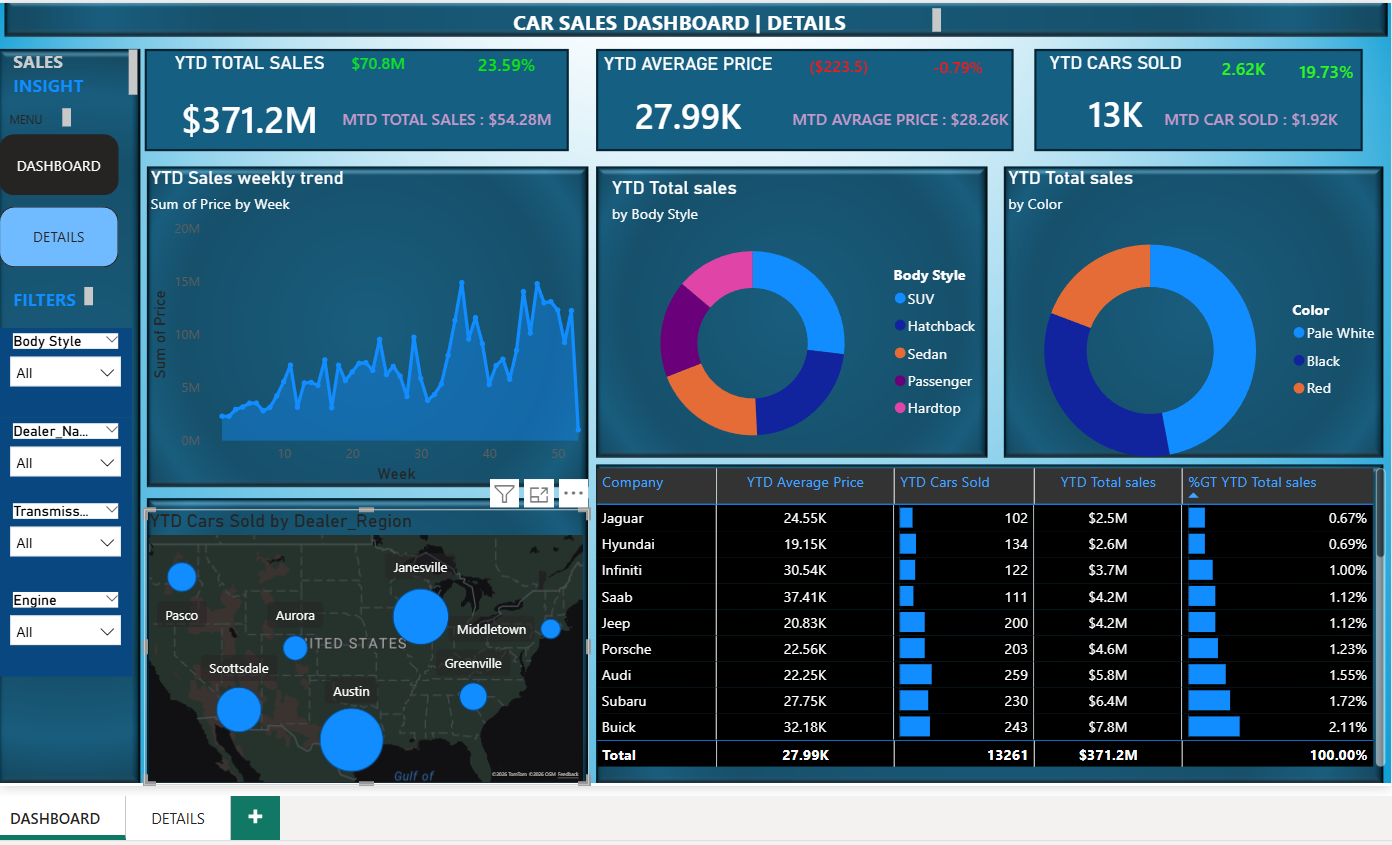

This screenshot's page, from the dashboard's own definition file:
{"tool":"powerbi","page":{"name":"DASHBOARD","canvas":[1280,720],"ordinal":0},"visuals":[{"type":"cardVisual","title":"YTD TOTAL SALES","fields":{"Data":["car_data.YTD Total sales"]},"box":[132.9,44.7,194.1,100],"z":0},{"type":"cardVisual","title":"SALES DIFFRENCE","fields":{"Data":["car_data.Sales Diffrence"]},"box":[284.7,27.1,127.1,52.9],"z":1000},{"type":"cardVisual","title":"SALES DIFFRENCE","fields":{"Data":["car_data.YOY Groth Sales"]},"box":[411.8,27.1,112.9,54.1],"z":2000},{"type":"cardVisual","fields":{"Data":["car_data.MTD KPI"]},"box":[282.4,77.6,258.8,54.1],"z":3000},{"type":"cardVisual","title":"YTD AVERAGE PRICE","fields":{"Data":["car_data.YTD Average Price"]},"box":[543,46.5,182.6,91.9],"z":4000},{"type":"cardVisual","title":"SALES DIFFRENCE","fields":{"Data":["car_data.Avrage Price diffrence"]},"box":[716.5,30.6,112.9,52.9],"z":5000},{"type":"cardVisual","title":"SALES DIFFRENCE","fields":{"Data":["car_data.YOY Avrage price"]},"box":[829.4,29.4,112.9,54.1],"z":6000},{"type":"cardVisual","title":"YTD CARS SOLD","fields":{"Data":["car_data.YTD Cars Sold"]},"box":[958.8,44.7,136.5,91.8],"z":7000},{"type":"cardVisual","fields":{"Data":["car_data.MTD Avrage KPI"]},"box":[698.8,77.6,260,55.3],"z":8000},{"type":"cardVisual","title":"SALES DIFFRENCE","fields":{"Data":["car_data.Car sold Diffrence"]},"box":[1095.3,30.6,112.9,54.1],"z":9000},{"type":"cardVisual","title":"SALES DIFFRENCE","fields":{"Data":["car_data.YOY Cars sold"]},"box":[1167.1,32.9,112.9,54.1],"z":10000},{"type":"cardVisual","fields":{"Data":["car_data.MTD car sold KPI"]},"box":[1036.5,77.6,229.4,55.3],"z":11000},{"type":"areaChart","title":"YTD Sales weekly trend","fields":{"Category":["Calander Table.Week"],"Y":["Sum(car_data.Price)"]},"box":[134.1,150.6,407.1,295.3],"z":12000},{"type":"donutChart","fields":{"Category":["car_data.Body Style"],"Y":["car_data.YTD Total sales"]},"box":[558.8,160,352.9,263.5],"z":13000},{"type":"donutChart","fields":{"Y":["car_data.YTD Total sales"],"Category":["car_data.Color"]},"box":[923.5,150.6,356.5,295.3],"z":14000},{"type":"map","fields":{"Category":["car_data.Dealer_Region"],"Size":["car_data.YTD Cars Sold"]},"box":[133,465,409,255],"z":15000},{"type":"tableEx","title":"COMPANY WISE SALWS TREND","fields":{"Values":["car_data.Company","car_data.YTD Average Price","car_data.YTD Cars Sold","car_data.YTD Total sales","Divide(car_data.YTD Total sales, ScopedEval(car_data.YTD Total sales, []))"]},"box":[544,423,736,284],"z":16000},{"type":"textbox","box":[468.2,0,403.5,32.9],"z":17000},{"type":"slicer","fields":{"Values":["car_data.Body Style"]},"box":[0,298.8,122.4,82.4],"z":18000},{"type":"slicer","fields":{"Values":["car_data.Dealer_Name"]},"box":[0,381.2,122.4,82.4],"z":19000},{"type":"slicer","fields":{"Values":["car_data.Transmission"]},"box":[0,455.3,122.4,83.5],"z":20000},{"type":"slicer","fields":{"Values":["car_data.Engine"]},"box":[0,536.5,122.4,82.4],"z":21000},{"type":"textbox","box":[8.1,255.8,83.7,29.1],"z":22000},{"type":"textbox","box":[4.7,91.9,66.3,26.7],"z":23000},{"type":"textbox","box":[8.1,38.4,124.4,52.3],"z":24000},{"type":"pageNavigator","box":[0,120.9,110.5,123.3],"z":25000}]}

Visuals, with their boxes in screenshot pixels (x1, y1, x2, y2):
"YTD TOTAL SALES" cardVisual: [left=146, top=52, right=354, bottom=159]
"SALES DIFFRENCE" cardVisual: [left=309, top=33, right=445, bottom=89]
"SALES DIFFRENCE" cardVisual: [left=445, top=33, right=566, bottom=91]
cardVisual - car_data.MTD KPI: [left=306, top=87, right=584, bottom=145]
"YTD AVERAGE PRICE" cardVisual: [left=586, top=53, right=782, bottom=152]
"SALES DIFFRENCE" cardVisual: [left=772, top=36, right=893, bottom=93]
"SALES DIFFRENCE" cardVisual: [left=893, top=35, right=1014, bottom=93]
"YTD CARS SOLD" cardVisual: [left=1032, top=52, right=1178, bottom=150]
cardVisual - car_data.MTD Avrage KPI: [left=753, top=87, right=1032, bottom=146]
"SALES DIFFRENCE" cardVisual: [left=1178, top=36, right=1299, bottom=94]
"SALES DIFFRENCE" cardVisual: [left=1255, top=39, right=1376, bottom=97]
cardVisual - car_data.MTD car sold KPI: [left=1115, top=87, right=1361, bottom=146]
"YTD Sales weekly trend" areaChart: [left=147, top=165, right=584, bottom=482]
donutChart - car_data.Body Style x car_data.YTD Total sales: [left=603, top=175, right=981, bottom=458]
donutChart - car_data.YTD Total sales x car_data.Color: [left=994, top=165, right=1376, bottom=482]
map - car_data.Dealer_Region x car_data.YTD Cars Sold: [left=146, top=502, right=585, bottom=776]
"COMPANY WISE SALWS TREND" tableEx: [left=587, top=457, right=1376, bottom=762]
textbox: [left=506, top=4, right=938, bottom=39]
slicer - car_data.Body Style: [left=4, top=324, right=135, bottom=412]
slicer - car_data.Dealer_Name: [left=4, top=412, right=135, bottom=501]
slicer - car_data.Transmission: [left=4, top=492, right=135, bottom=581]
slicer - car_data.Engine: [left=4, top=579, right=135, bottom=667]
textbox: [left=12, top=278, right=102, bottom=309]
textbox: [left=9, top=102, right=80, bottom=131]
textbox: [left=12, top=45, right=146, bottom=101]
pageNavigator: [left=4, top=133, right=122, bottom=266]
